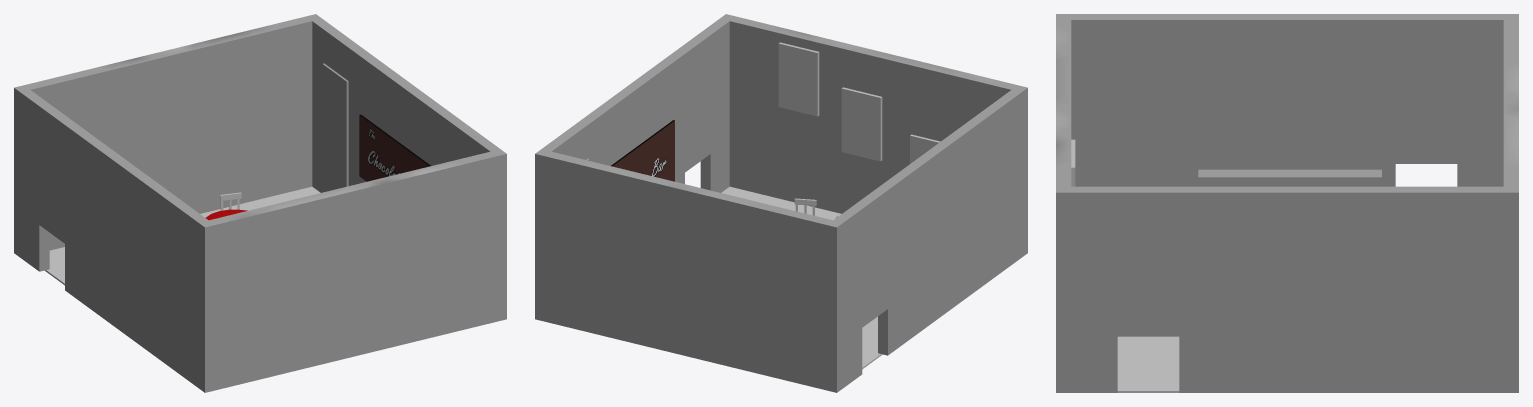
Rendered from Level3.fbx.
The picture shows the model from 3 angles, left to right: view 1: azimuth 30°, elevation 25°; view 2: azimuth 150°, elevation 25°; view 3: azimuth 270°, elevation 25°; orthographic projection. The views are drawn at different scales.
Visible parts, largest first — view 1: pPlane1, pCube36, pCube35, pCube4; view 2: pPlane1, pCube37, pCube38, pCube35, pCube4, pCube39; view 3: pPlane1, pCube4, pCube5.
Part boxes in pixels (bbox=[...]): pPlane1: bbox=[14, 14, 506, 392]; pCube36: bbox=[322, 63, 348, 187]; pCube35: bbox=[359, 114, 430, 181]; pCube4: bbox=[44, 186, 320, 285]; pPlane1: bbox=[535, 14, 1027, 392]; pCube37: bbox=[778, 42, 819, 116]; pCube38: bbox=[841, 87, 882, 161]; pCube35: bbox=[611, 120, 674, 181]; pCube4: bbox=[721, 186, 882, 369]; pCube39: bbox=[910, 134, 940, 163]; pPlane1: bbox=[1056, 14, 1518, 392]; pCube4: bbox=[1117, 336, 1179, 392]; pCube5: bbox=[1198, 169, 1381, 186].
Size of the model in its own units: 112 by 59.56 by 122.
